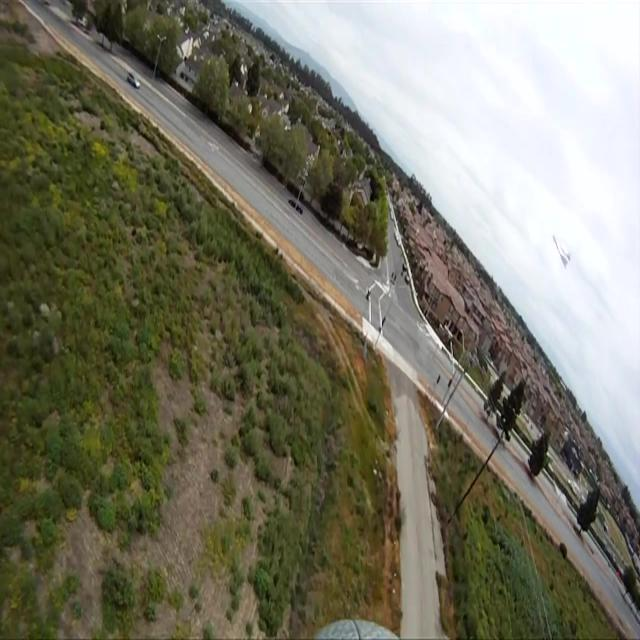iha: (551, 233, 572, 271)
